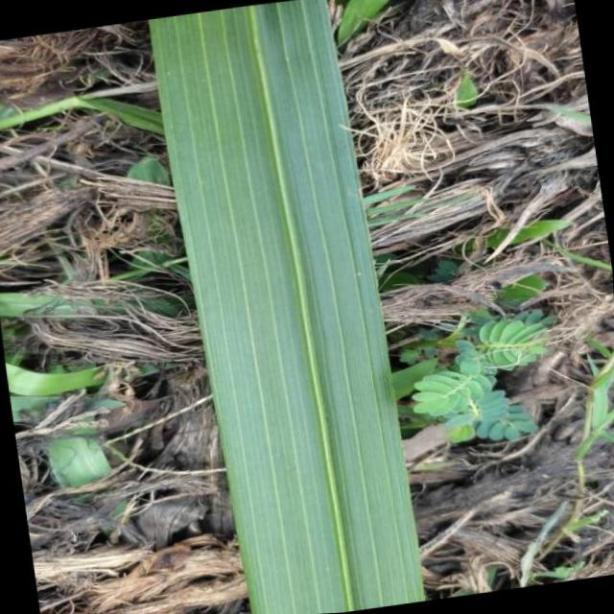Healthy: (150, 12, 428, 614)
